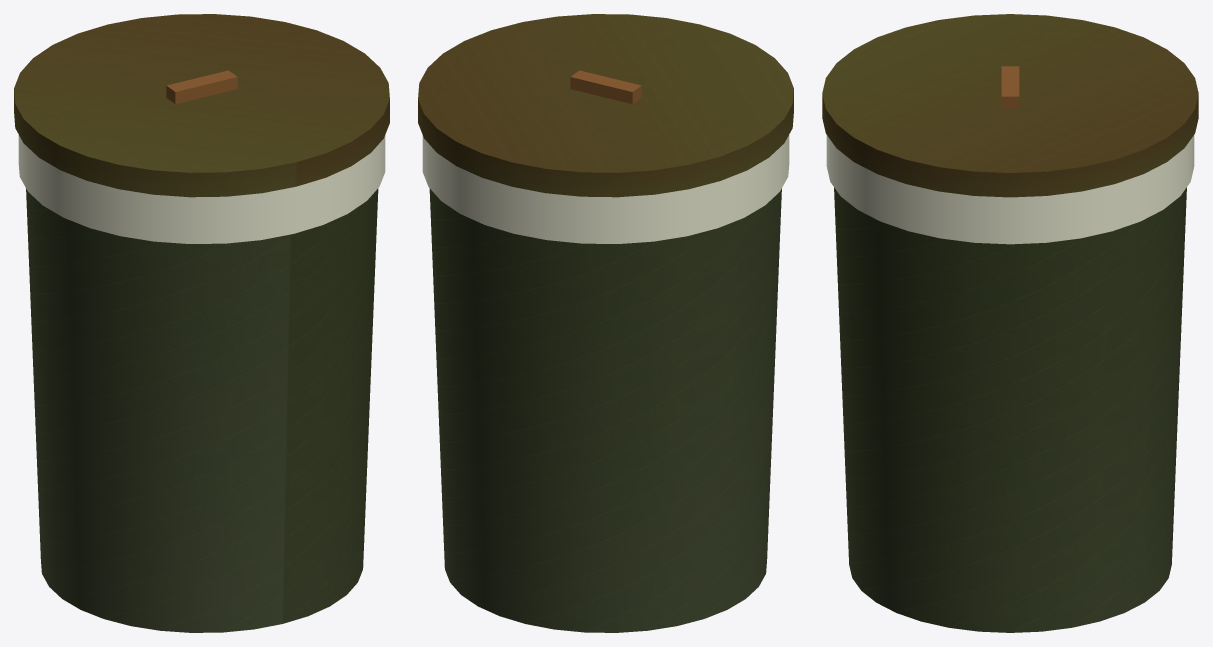
The model's file is state-default.glb.
The picture shows the model from 3 angles, left to right: view 1: azimuth 30°, elevation 25°; view 2: azimuth 150°, elevation 25°; view 3: azimuth 270°, elevation 25°; orthographic projection.
Visible parts, largest first — view 1: assetPrim:a2b85a007ca9d-19c7408763c:hamper-body, assetPrim:a2b85a007ca9d-19c7408763c:hamper-lid, assetPrim:a2b85a007ca9d-19c7408763c:hamper-liner-rim, assetPrim:a2b85a007ca9d-19c7408763c:hamper-lid-handle; view 2: assetPrim:a2b85a007ca9d-19c7408763c:hamper-body, assetPrim:a2b85a007ca9d-19c7408763c:hamper-lid, assetPrim:a2b85a007ca9d-19c7408763c:hamper-liner-rim, assetPrim:a2b85a007ca9d-19c7408763c:hamper-lid-handle; view 3: assetPrim:a2b85a007ca9d-19c7408763c:hamper-body, assetPrim:a2b85a007ca9d-19c7408763c:hamper-lid, assetPrim:a2b85a007ca9d-19c7408763c:hamper-liner-rim, assetPrim:a2b85a007ca9d-19c7408763c:hamper-lid-handle.
Part boxes in pixels (x1,y1,x2,y2): assetPrim:a2b85a007ca9d-19c7408763c:hamper-body: [26, 188, 378, 632]; assetPrim:a2b85a007ca9d-19c7408763c:hamper-lid: [14, 14, 389, 197]; assetPrim:a2b85a007ca9d-19c7408763c:hamper-liner-rim: [18, 135, 385, 243]; assetPrim:a2b85a007ca9d-19c7408763c:hamper-lid-handle: [166, 70, 237, 104]; assetPrim:a2b85a007ca9d-19c7408763c:hamper-body: [429, 188, 781, 632]; assetPrim:a2b85a007ca9d-19c7408763c:hamper-lid: [418, 14, 793, 197]; assetPrim:a2b85a007ca9d-19c7408763c:hamper-liner-rim: [422, 135, 789, 243]; assetPrim:a2b85a007ca9d-19c7408763c:hamper-lid-handle: [570, 70, 641, 104]; assetPrim:a2b85a007ca9d-19c7408763c:hamper-body: [834, 187, 1186, 632]; assetPrim:a2b85a007ca9d-19c7408763c:hamper-lid: [822, 14, 1198, 197]; assetPrim:a2b85a007ca9d-19c7408763c:hamper-liner-rim: [826, 135, 1194, 244]; assetPrim:a2b85a007ca9d-19c7408763c:hamper-lid-handle: [1001, 66, 1019, 108].
Size of the model in its own units: 0.42 by 0.595 by 0.42.
Materials: 4 (2 with a texture image).
